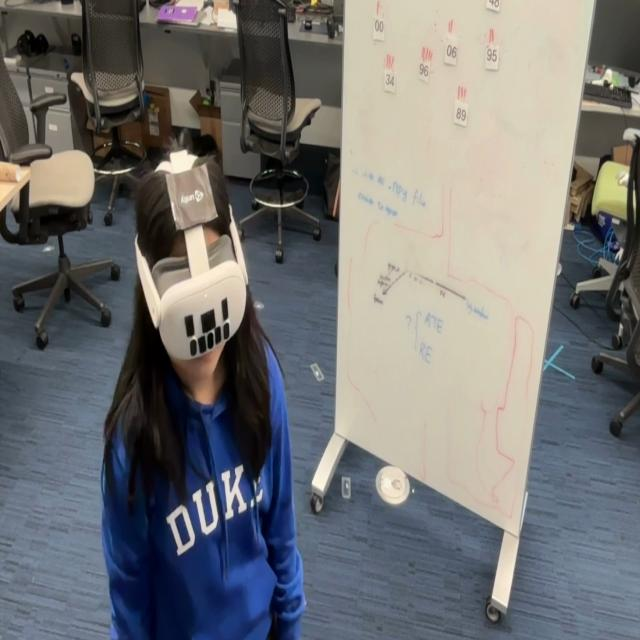Headset: (133, 202, 249, 362)
